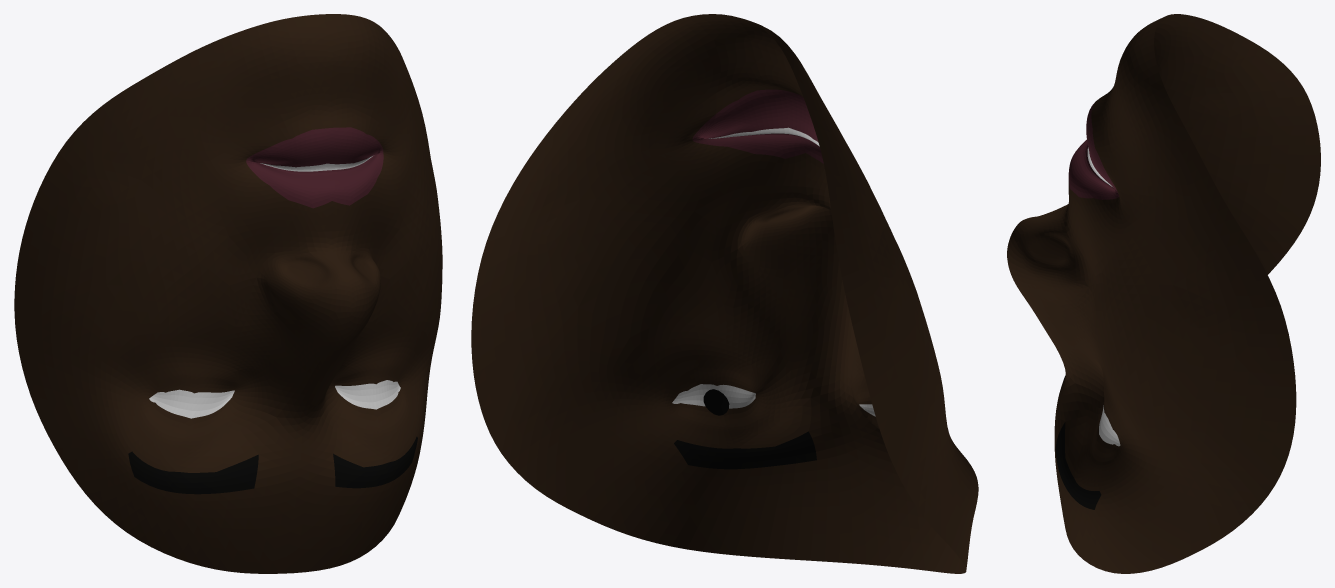
File: depressed.obj
The picture shows the model from 3 angles, left to right: view 1: azimuth 30°, elevation 25°; view 2: azimuth 150°, elevation 25°; view 3: azimuth 270°, elevation 25°; orthographic projection. The views are drawn at different scales.
Visible parts, largest first — view 1: face_mesh_subdivided; view 2: face_mesh_subdivided; view 3: face_mesh_subdivided.
Boxes of the visible parts, box(x1,y1,x2,y2) form: face_mesh_subdivided: box(14, 14, 442, 573); face_mesh_subdivided: box(471, 14, 978, 573); face_mesh_subdivided: box(1007, 14, 1320, 573).
Size of the model in its own units: 0.6352 by 0.7981 by 0.4374.
